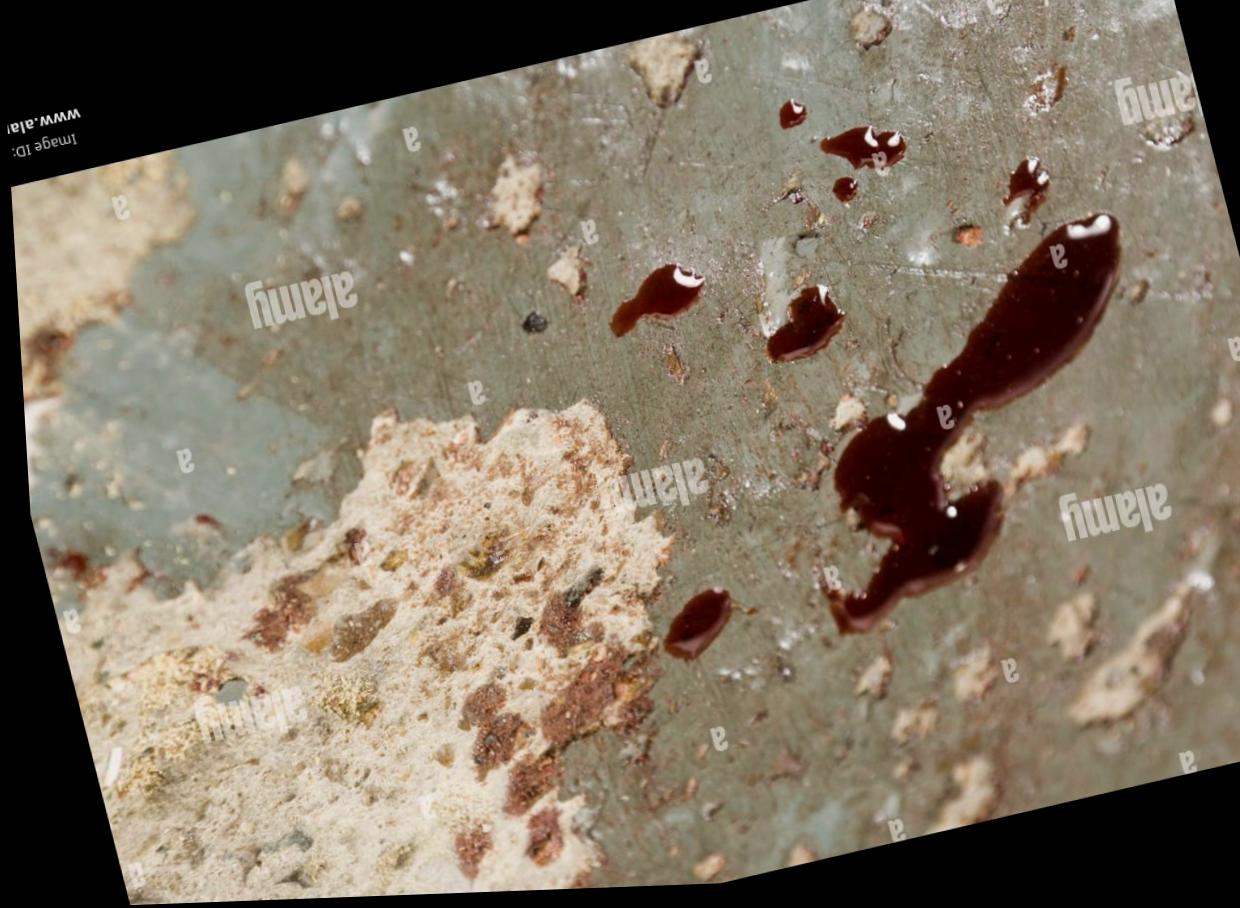Fire: (813, 221, 1119, 642), (605, 268, 704, 341), (763, 292, 841, 369), (656, 594, 731, 666), (819, 133, 905, 177), (999, 170, 1047, 233), (777, 106, 806, 136), (830, 185, 857, 208)
